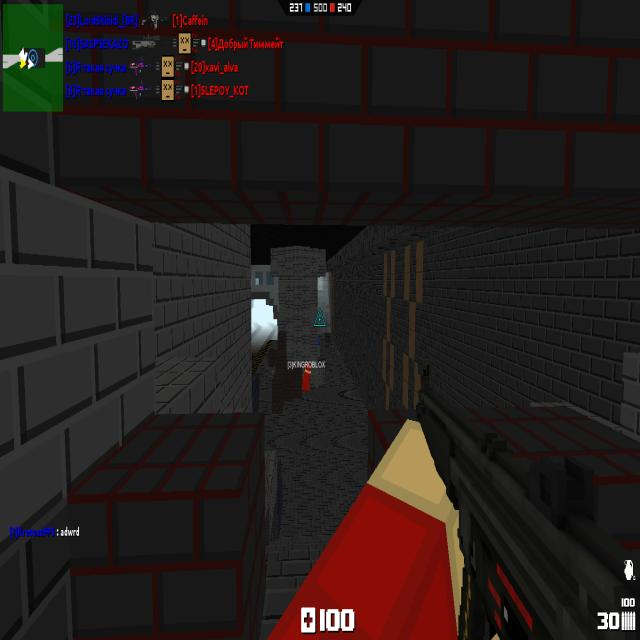enemy: (317, 333, 320, 348)
